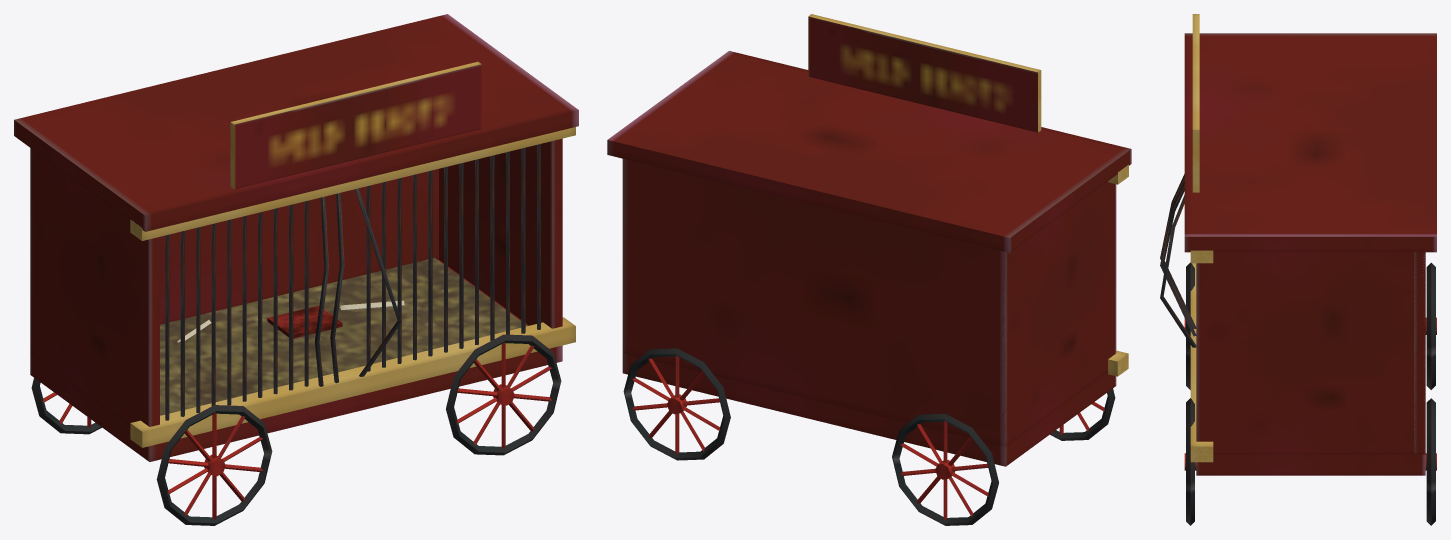
The model's file is cage_wagon.obj.
3 renders of one model, left to right at view 1: azimuth 30°, elevation 25°; view 2: azimuth 150°, elevation 25°; view 3: azimuth 270°, elevation 25°, orthographic. The views are drawn at different scales.
Parts seen in each view (by area): view 1: cage_wagon; view 2: cage_wagon; view 3: cage_wagon.
Boxes of the visible parts, x1,y1,x2,y2 form: cage_wagon: [14, 14, 578, 525]; cage_wagon: [607, 14, 1131, 525]; cage_wagon: [1160, 14, 1436, 525].
Bounding box in the file's own units: 4.2 × 3.66 × 2.42.
Materials: 1 (1 with a texture image).
